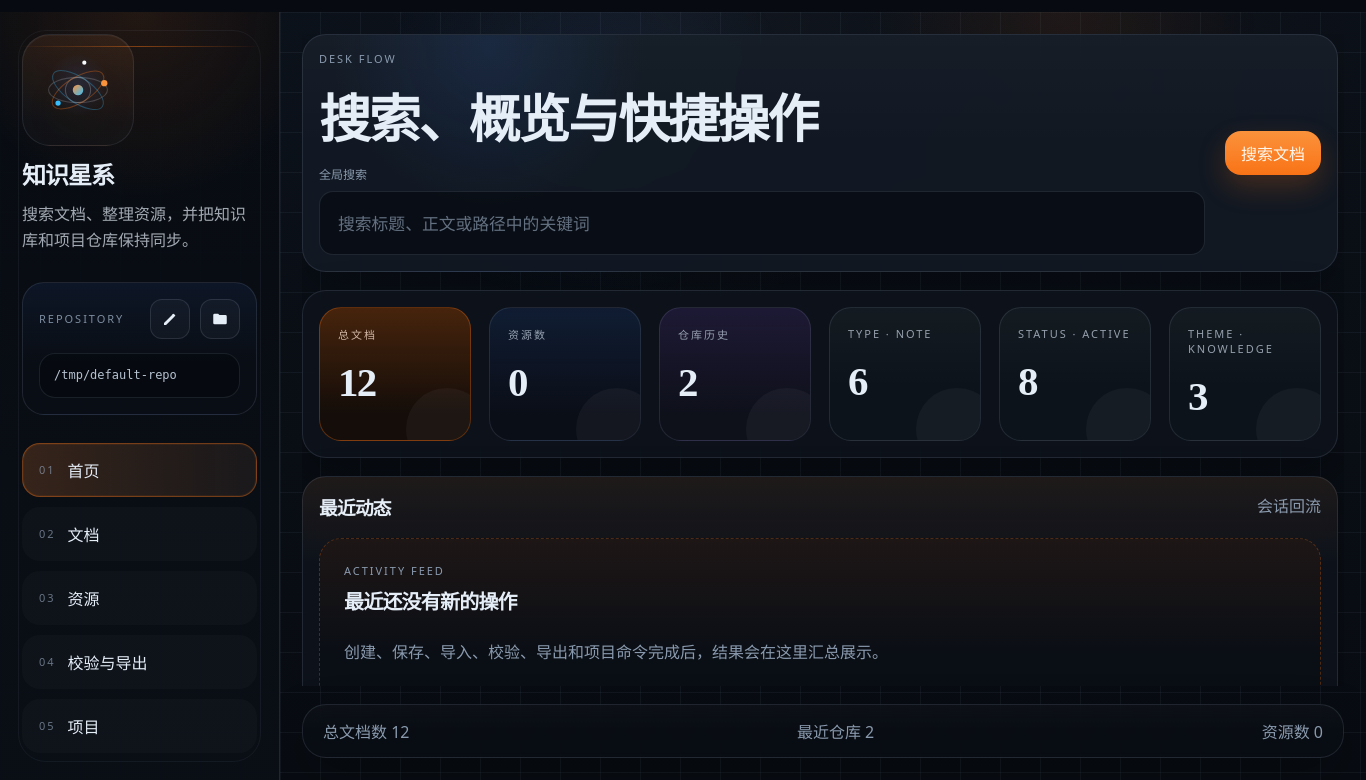
Test: App › creates a note from an in-place document tab
Expected: the text "/tmp/default-repo" is shown, [39,353,240,398]
Click the button "02 文档" at (140, 534), box [22,507,257,561]
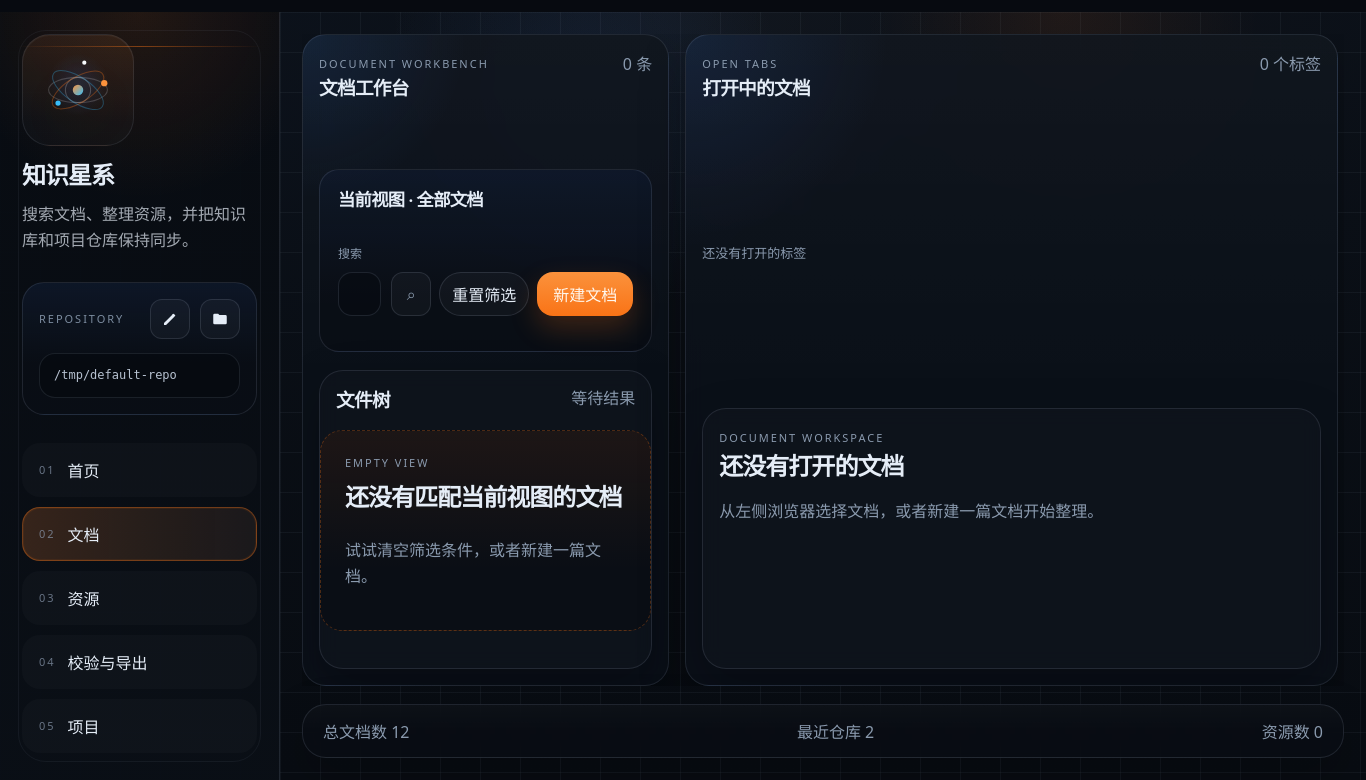
Click the button "新建文档" at (585, 294), box [537,272,633,316]
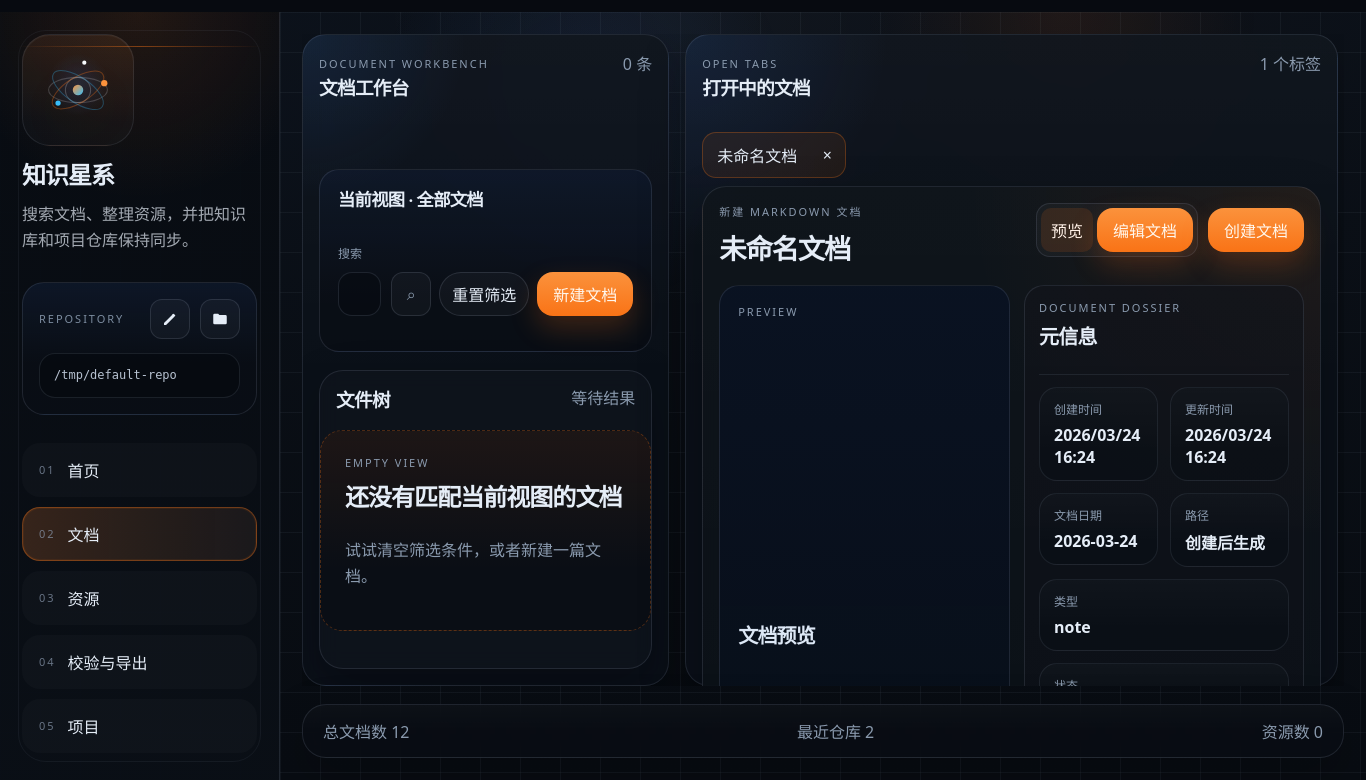
Click the button "编辑文档" at (1145, 230), box [1097,208,1193,252]
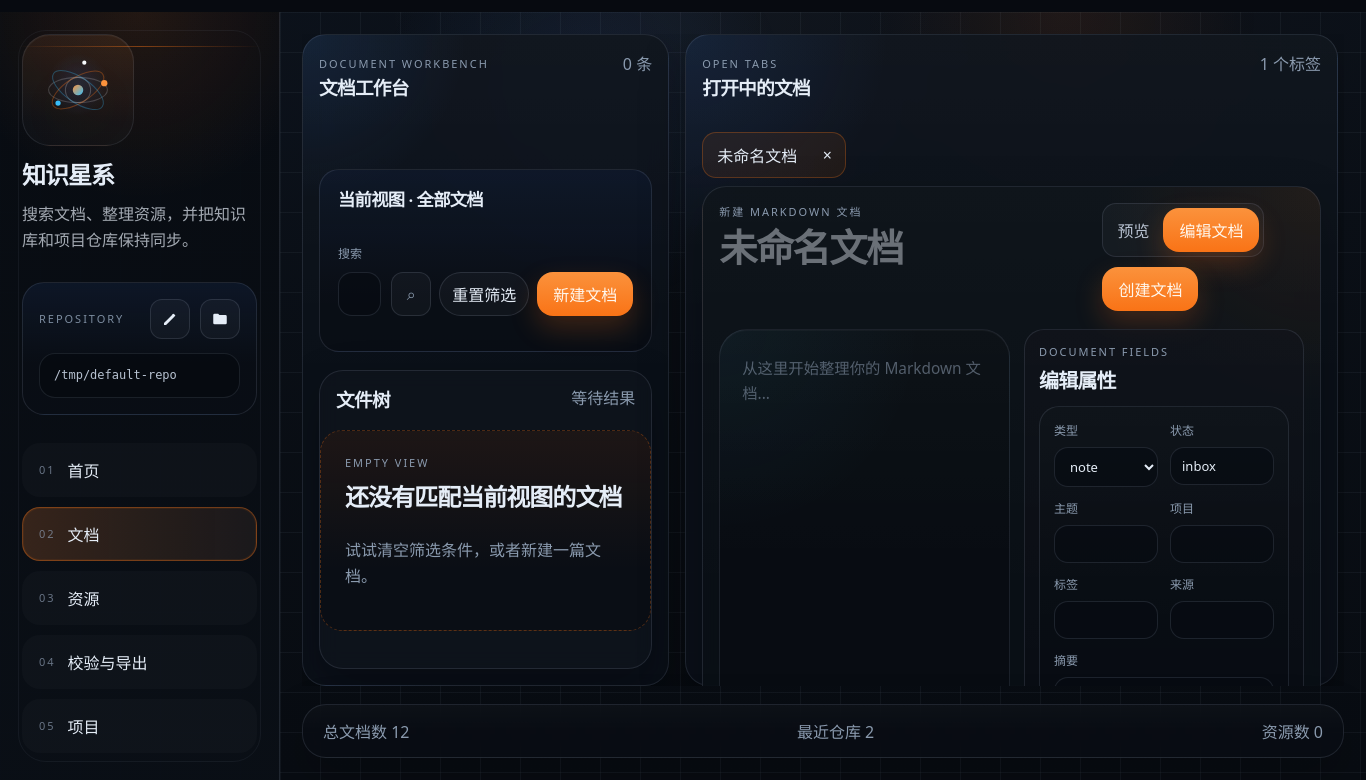
Type "Ship Note" into the field named "标题" at (904, 249), box [719,227,1088,271]
(page scrolled)
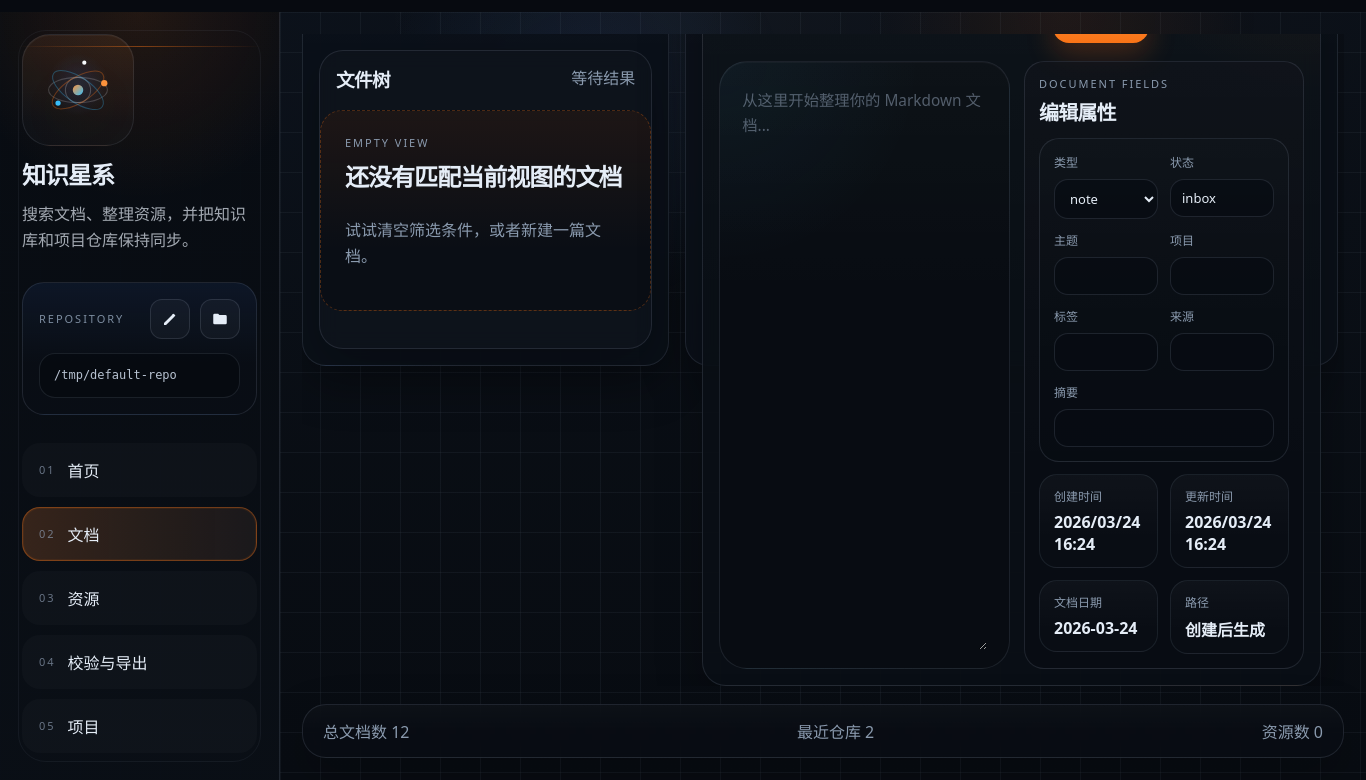
Type "Captured from desktop." into the text box named "Markdown 正文" at (865, 369), box [742,88,987,650]
(page scrolled)
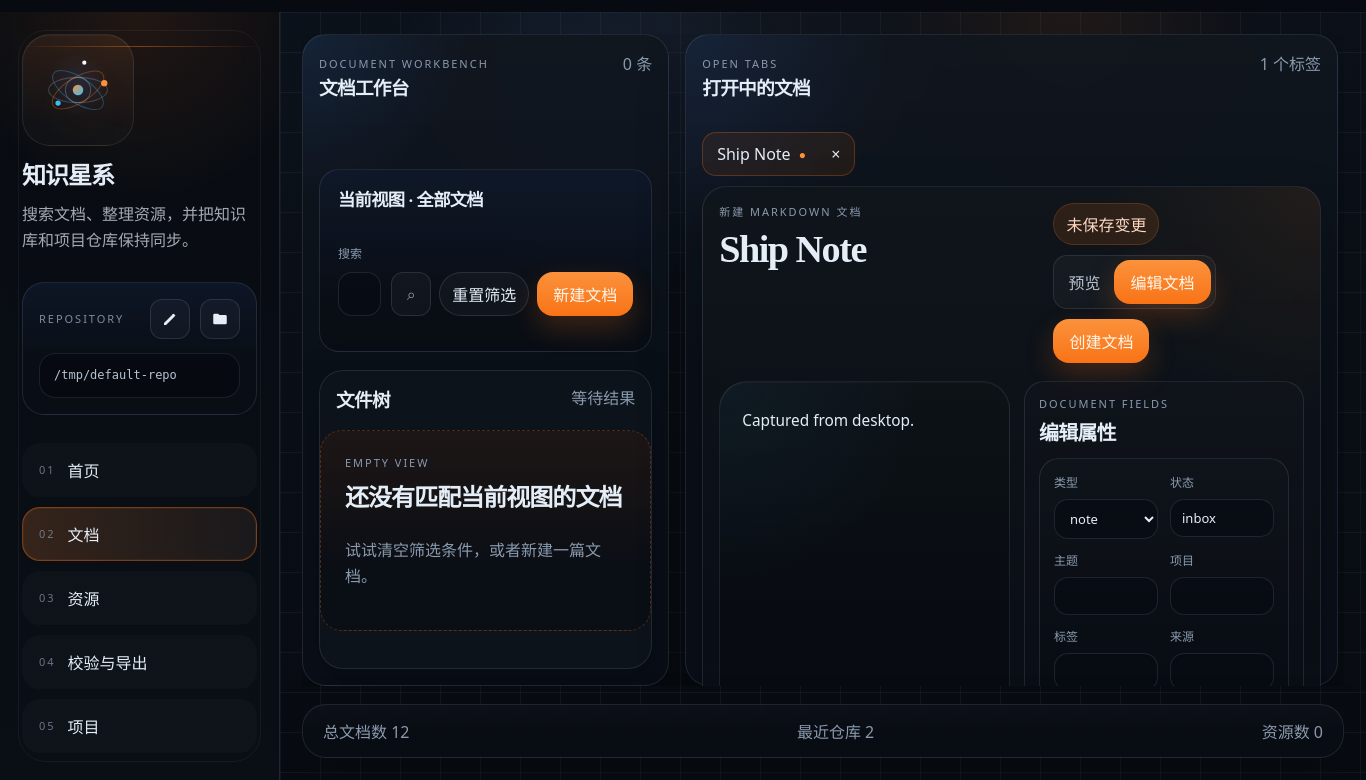
Click the button "创建文档" at (1102, 341), box [1054,319,1150,363]
(page scrolled)
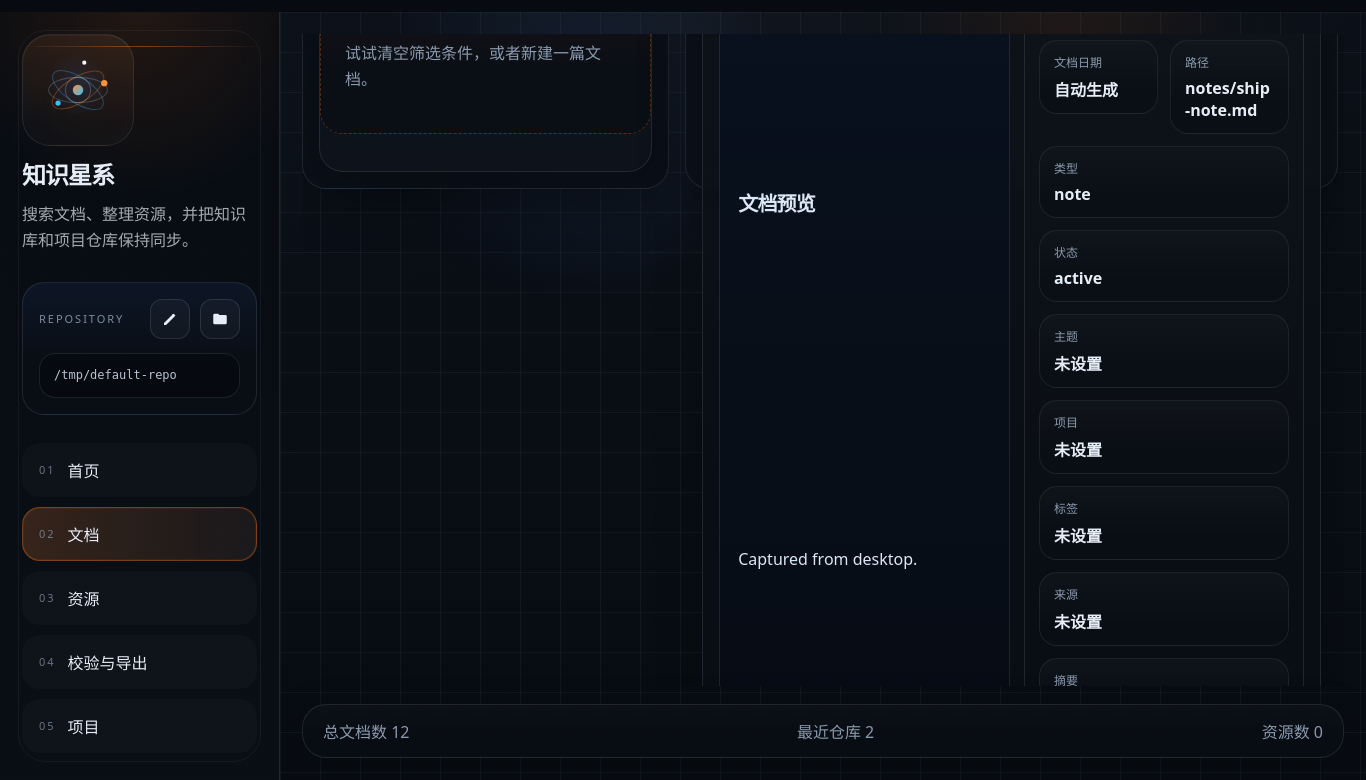
Now the text "文档预览" is shown, box [738,193,815,215]
